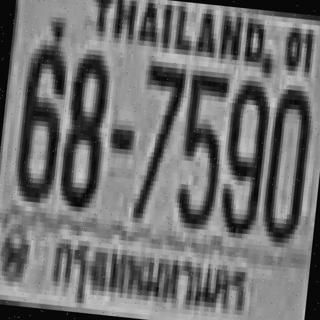N00: (258, 83, 312, 239)
N05: (172, 65, 228, 226)
N06: (12, 24, 70, 199)
N07: (130, 60, 184, 221)
N08: (56, 48, 110, 208)
N09: (216, 74, 270, 235)
P04: (45, 226, 254, 320)
